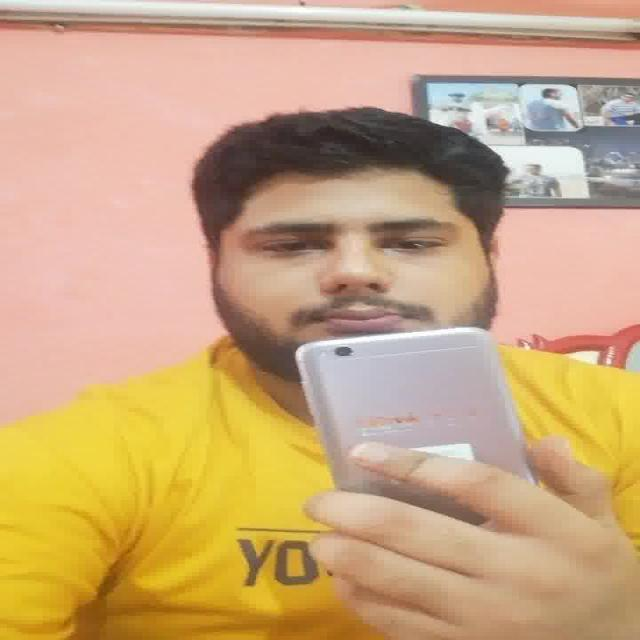Phone: (294, 324, 522, 523)
